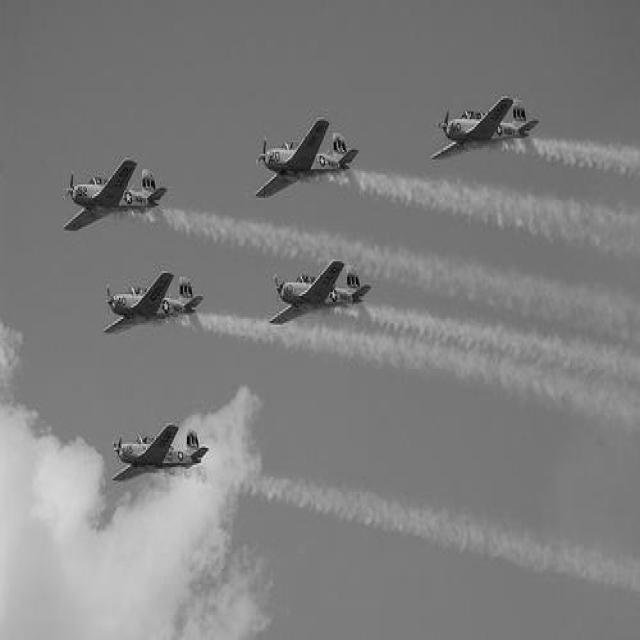aeroplane: (252, 115, 355, 200), (59, 158, 168, 228), (429, 92, 534, 162), (268, 257, 372, 325), (102, 267, 204, 335), (110, 421, 209, 486)
